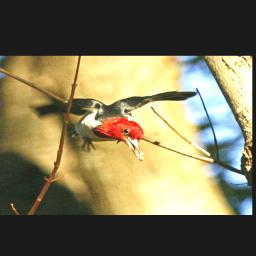Woodpecker: (32, 84, 207, 163)
